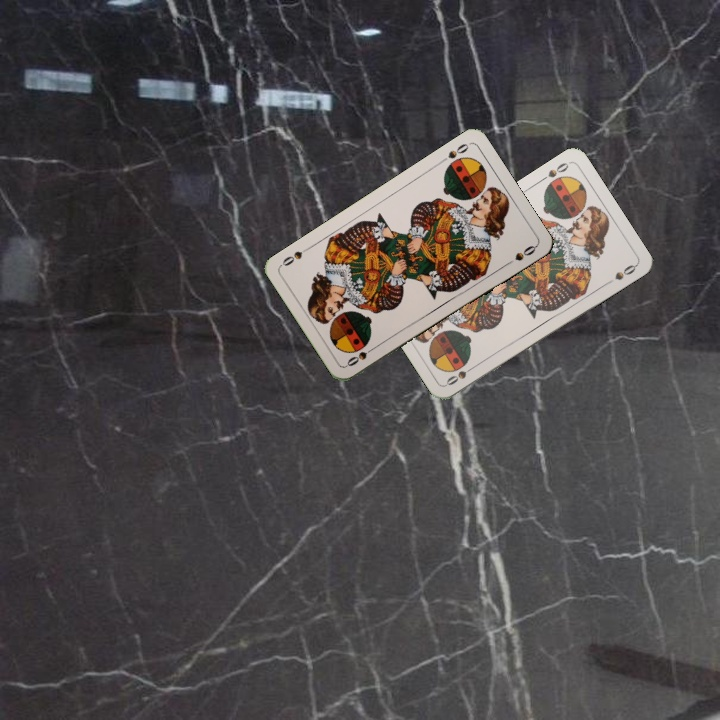SO: (442, 361, 479, 388), (536, 158, 572, 185), (343, 342, 379, 369), (436, 139, 471, 166)
